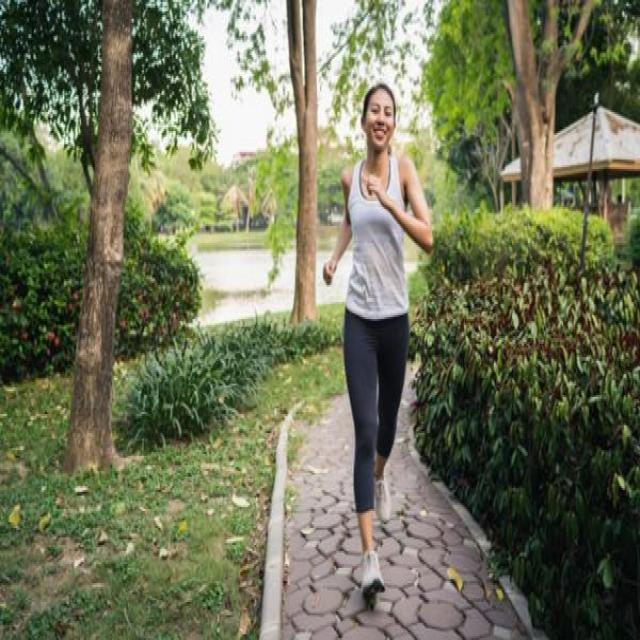Person: (323, 84, 433, 594)
